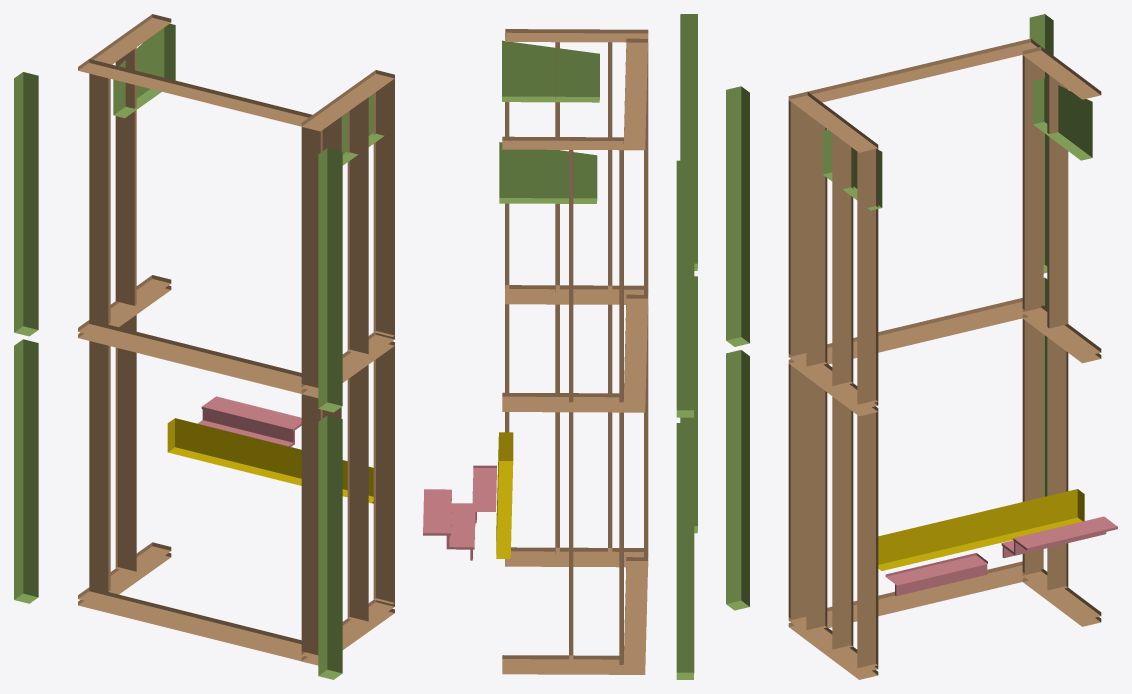
3 views of the same model, side by side, from view 1: azimuth 30°, elevation 25°; view 2: azimuth 150°, elevation 25°; view 3: azimuth 270°, elevation 25° (orthographic).
Size of the model in its own units: 3.89 by 6.68 by 4.47.
